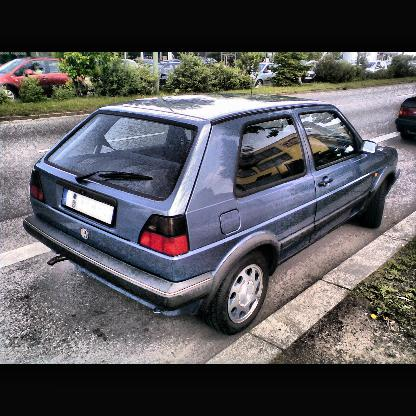Volkswagen Golf Hatchback 1991: (23, 95, 403, 336)
